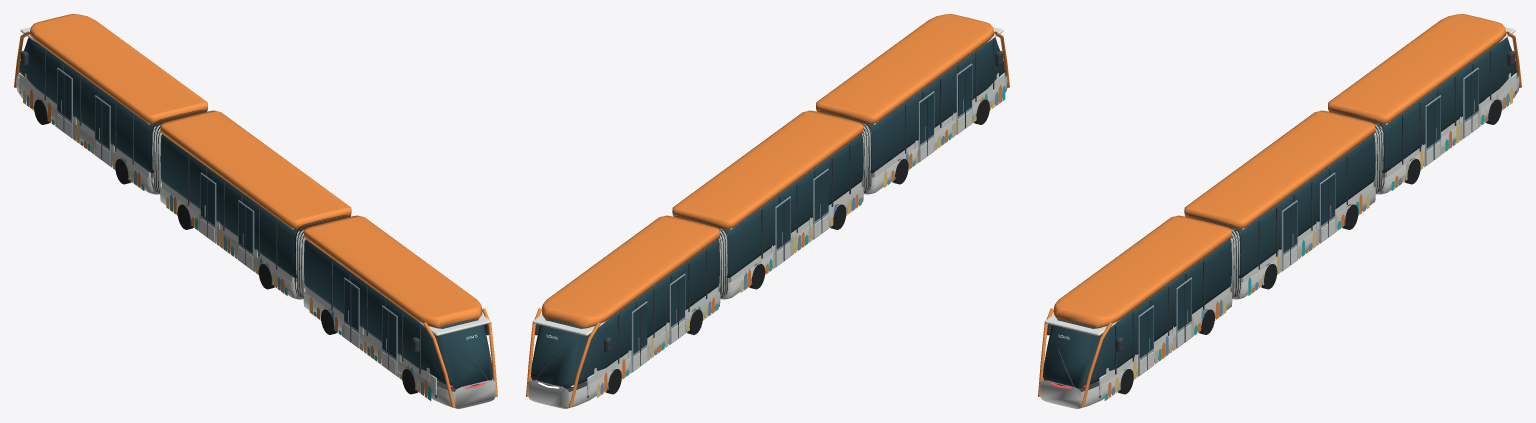
Rendered from art.glb.
The picture shows the model from 3 angles, left to right: view 1: azimuth 30°, elevation 25°; view 2: azimuth 150°, elevation 25°; view 3: azimuth 330°, elevation 25°; orthographic projection.
Parts seen in each view (by area): view 1: section_rear_orange, section_mid_orange, section_front_orange, section_rear_glass, section_mid_glass, section_front_glass, section_rear_pearl, passenger_interior_2_pearl, section_front_pearl, section_mid_pearl, section_rear_dark, passenger_interior_1_pearl (+14 smaller); view 2: section_front_orange, section_mid_orange, section_rear_orange, section_front_glass, section_mid_glass, section_rear_glass, section_front_pearl, section_rear_pearl, passenger_interior_0_pearl, section_mid_pearl, section_front_dark, passenger_interior_1_pearl (+15 smaller); view 3: section_rear_orange, section_mid_orange, section_front_orange, section_rear_glass, section_mid_glass, section_front_glass, section_rear_pearl, passenger_interior_2_pearl, section_mid_pearl, section_front_pearl, section_rear_dark, passenger_interior_1_pearl (+14 smaller).
Part boxes in pixels (x1,y1,x2,y2): section_rear_orange: (304, 215, 497, 407); section_mid_orange: (160, 110, 351, 293); section_front_orange: (14, 14, 207, 188); section_rear_glass: (304, 239, 492, 388); section_mid_glass: (160, 134, 300, 277); section_front_glass: (19, 37, 157, 172); section_rear_pearl: (303, 287, 495, 408); passenger_interior_2_pearl: (306, 244, 491, 394); section_front_pearl: (16, 72, 160, 194); section_mid_pearl: (160, 182, 303, 299); section_rear_dark: (331, 261, 491, 398); passenger_interior_1_pearl: (162, 136, 304, 282); section_front_orange: (526, 215, 719, 407); section_mid_orange: (672, 110, 863, 287); section_rear_orange: (816, 14, 1009, 182); section_front_glass: (531, 239, 719, 388); section_mid_glass: (722, 134, 863, 277); section_rear_glass: (865, 37, 1004, 173); section_front_pearl: (528, 287, 720, 408); section_rear_pearl: (863, 72, 1007, 194); passenger_interior_0_pearl: (532, 244, 717, 394); section_mid_pearl: (720, 182, 863, 299); section_front_dark: (532, 250, 707, 398); passenger_interior_1_pearl: (719, 136, 861, 282); section_rear_orange: (1038, 215, 1231, 407); section_mid_orange: (1184, 110, 1375, 293); section_front_orange: (1328, 14, 1521, 188); section_rear_glass: (1043, 239, 1231, 388); section_mid_glass: (1235, 134, 1375, 278); section_front_glass: (1378, 37, 1516, 172); section_rear_pearl: (1040, 287, 1232, 408); passenger_interior_2_pearl: (1044, 244, 1229, 394); section_mid_pearl: (1232, 182, 1375, 299); section_front_pearl: (1375, 72, 1519, 194); section_rear_dark: (1044, 261, 1204, 398); passenger_interior_1_pearl: (1231, 136, 1373, 282).
Bounding box in the file's own units: 3.28 × 3.48 × 32.59.
